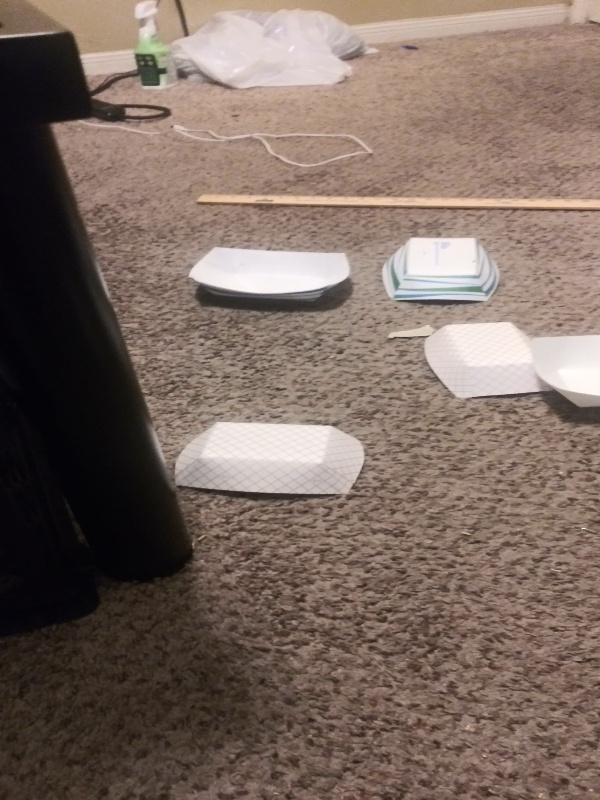plate: (172, 416, 367, 501), (421, 316, 557, 401), (184, 242, 354, 306), (376, 235, 505, 305), (524, 329, 600, 427)
